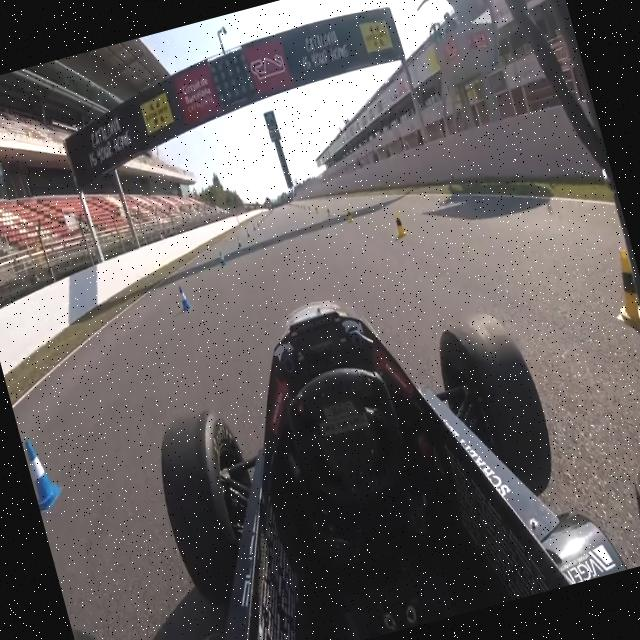blue_cone: (21, 432, 68, 512), (174, 281, 194, 312), (215, 247, 228, 267)
yellow_cone: (597, 243, 640, 339), (390, 209, 407, 237), (344, 207, 355, 223)
